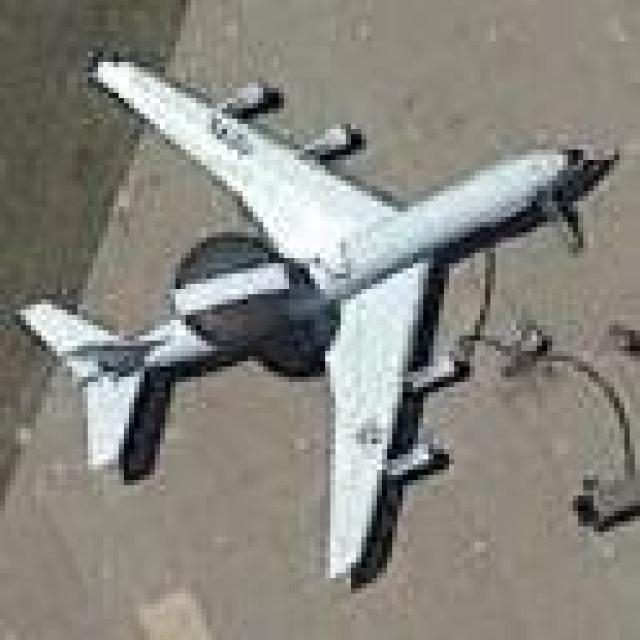E-3_TopDown: (10, 41, 635, 588)
